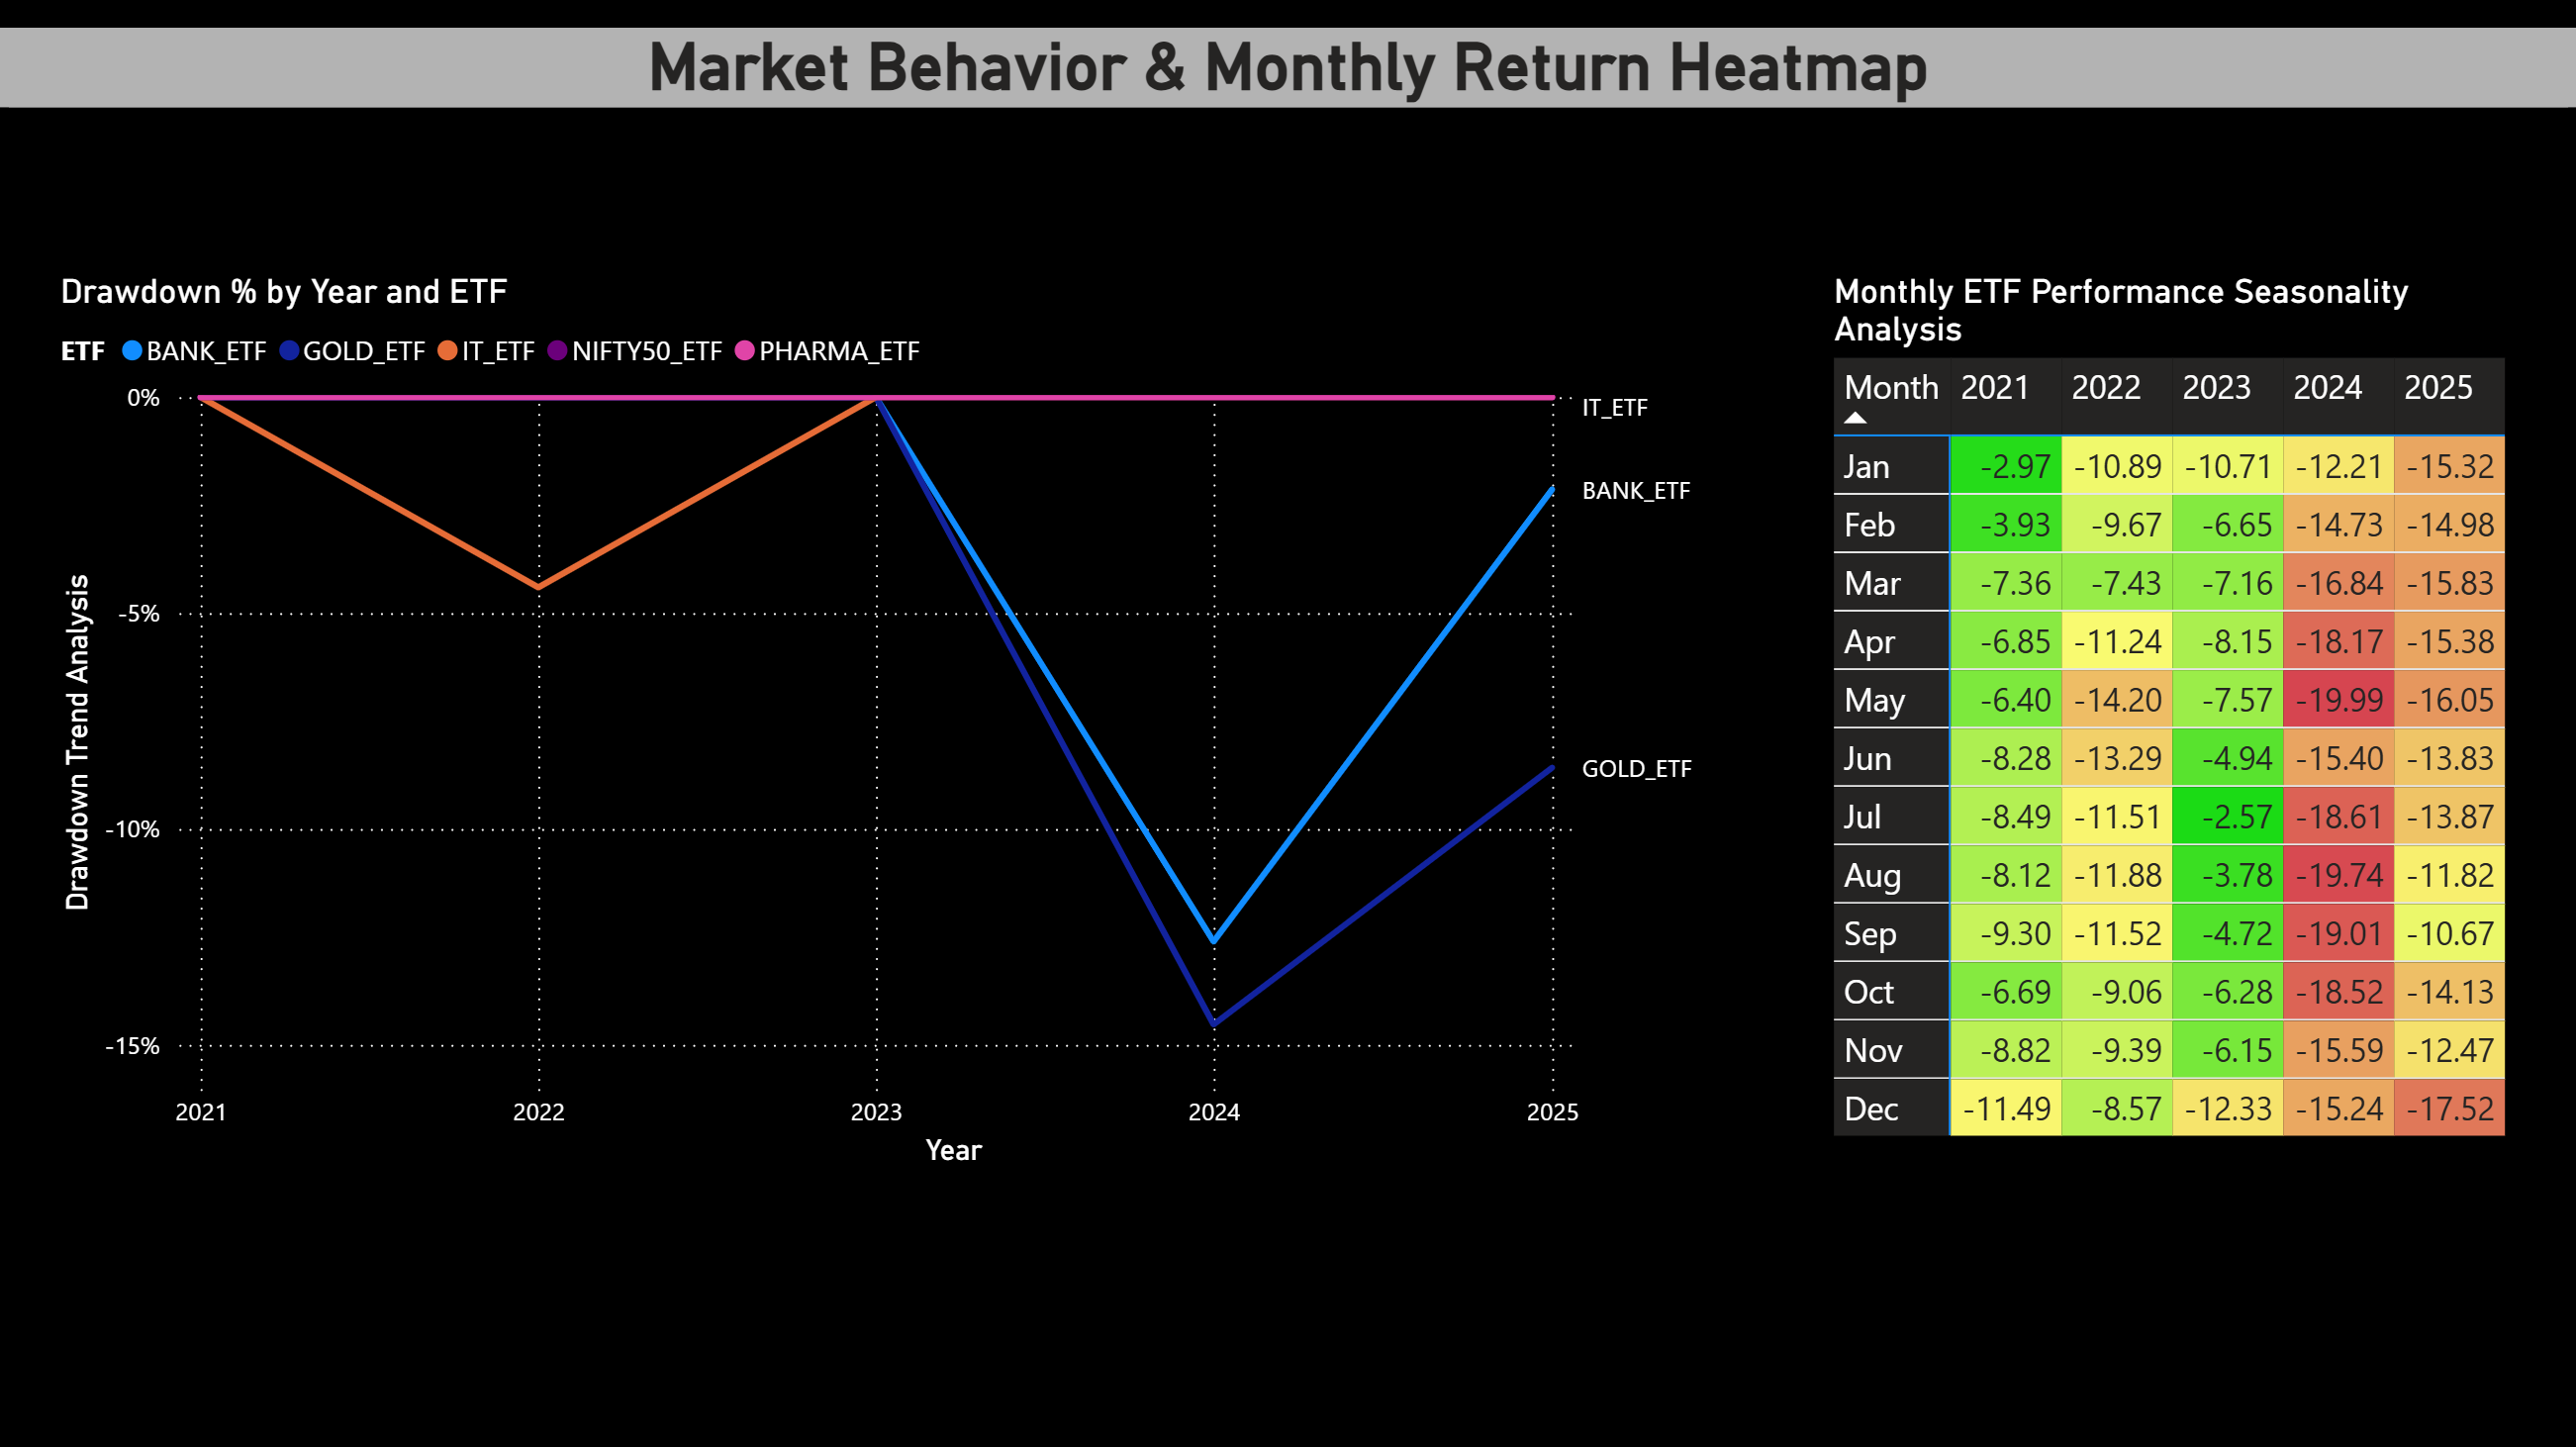

Layout of this report page (visuals, bound fields, positions):
{"tool":"powerbi","page":{"name":"Market Behavior","canvas":[1280,720],"ordinal":2},"visuals":[{"type":"lineChart","fields":{"Category":["Date_Table.Date.Variation.Date Hierarchy.Year","Date_Table.Date.Variation.Date Hierarchy.Quarter","Date_Table.Date.Variation.Date Hierarchy.Month","Date_Table.Date.Variation.Date Hierarchy.Day"],"Y":["ETF_Data.Drawdown %"],"Series":["ETF_Data.ETF"]},"box":[25.3,135.3,840.1,448.7],"z":0},{"type":"pivotTable","title":"Monthly ETF Performance Seasonality Analysis","fields":{"Rows":["Date_Table.Month"],"Columns":["Date_Table.Year"],"Values":["ETF_Data.Monthly Return %"]},"box":[906.1,135.3,343.1,441],"z":1000},{"type":"textbox","title":"Market Behavior & Monthly Return Heatmap","box":[0,14.3,1280,39.6],"z":1001}]}

Visuals, with their boxes in screenshot pixels (x1, y1, x2, y2), scaled from the page's 1280x720 canvas onto the 2576x1447 screenshot:
lineChart - Date_Table.Date.Variation.Date Hierarchy.Year x Date_Table.Date.Variation.Date Hierarchy.Quarter: bbox(50, 272, 1742, 1174)
"Monthly ETF Performance Seasonality Analysis" pivotTable: bbox(1824, 272, 2514, 1158)
"Market Behavior & Monthly Return Heatmap" textbox: bbox(0, 29, 2575, 108)
